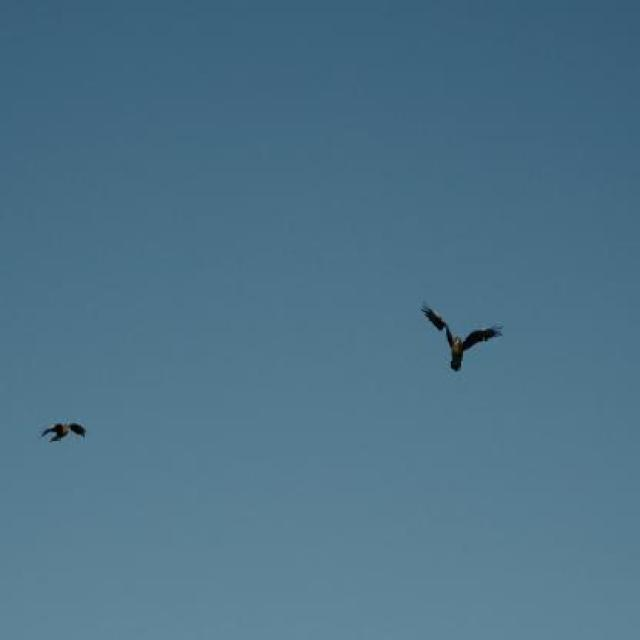bird: (412, 280, 505, 386), (38, 408, 88, 454)
